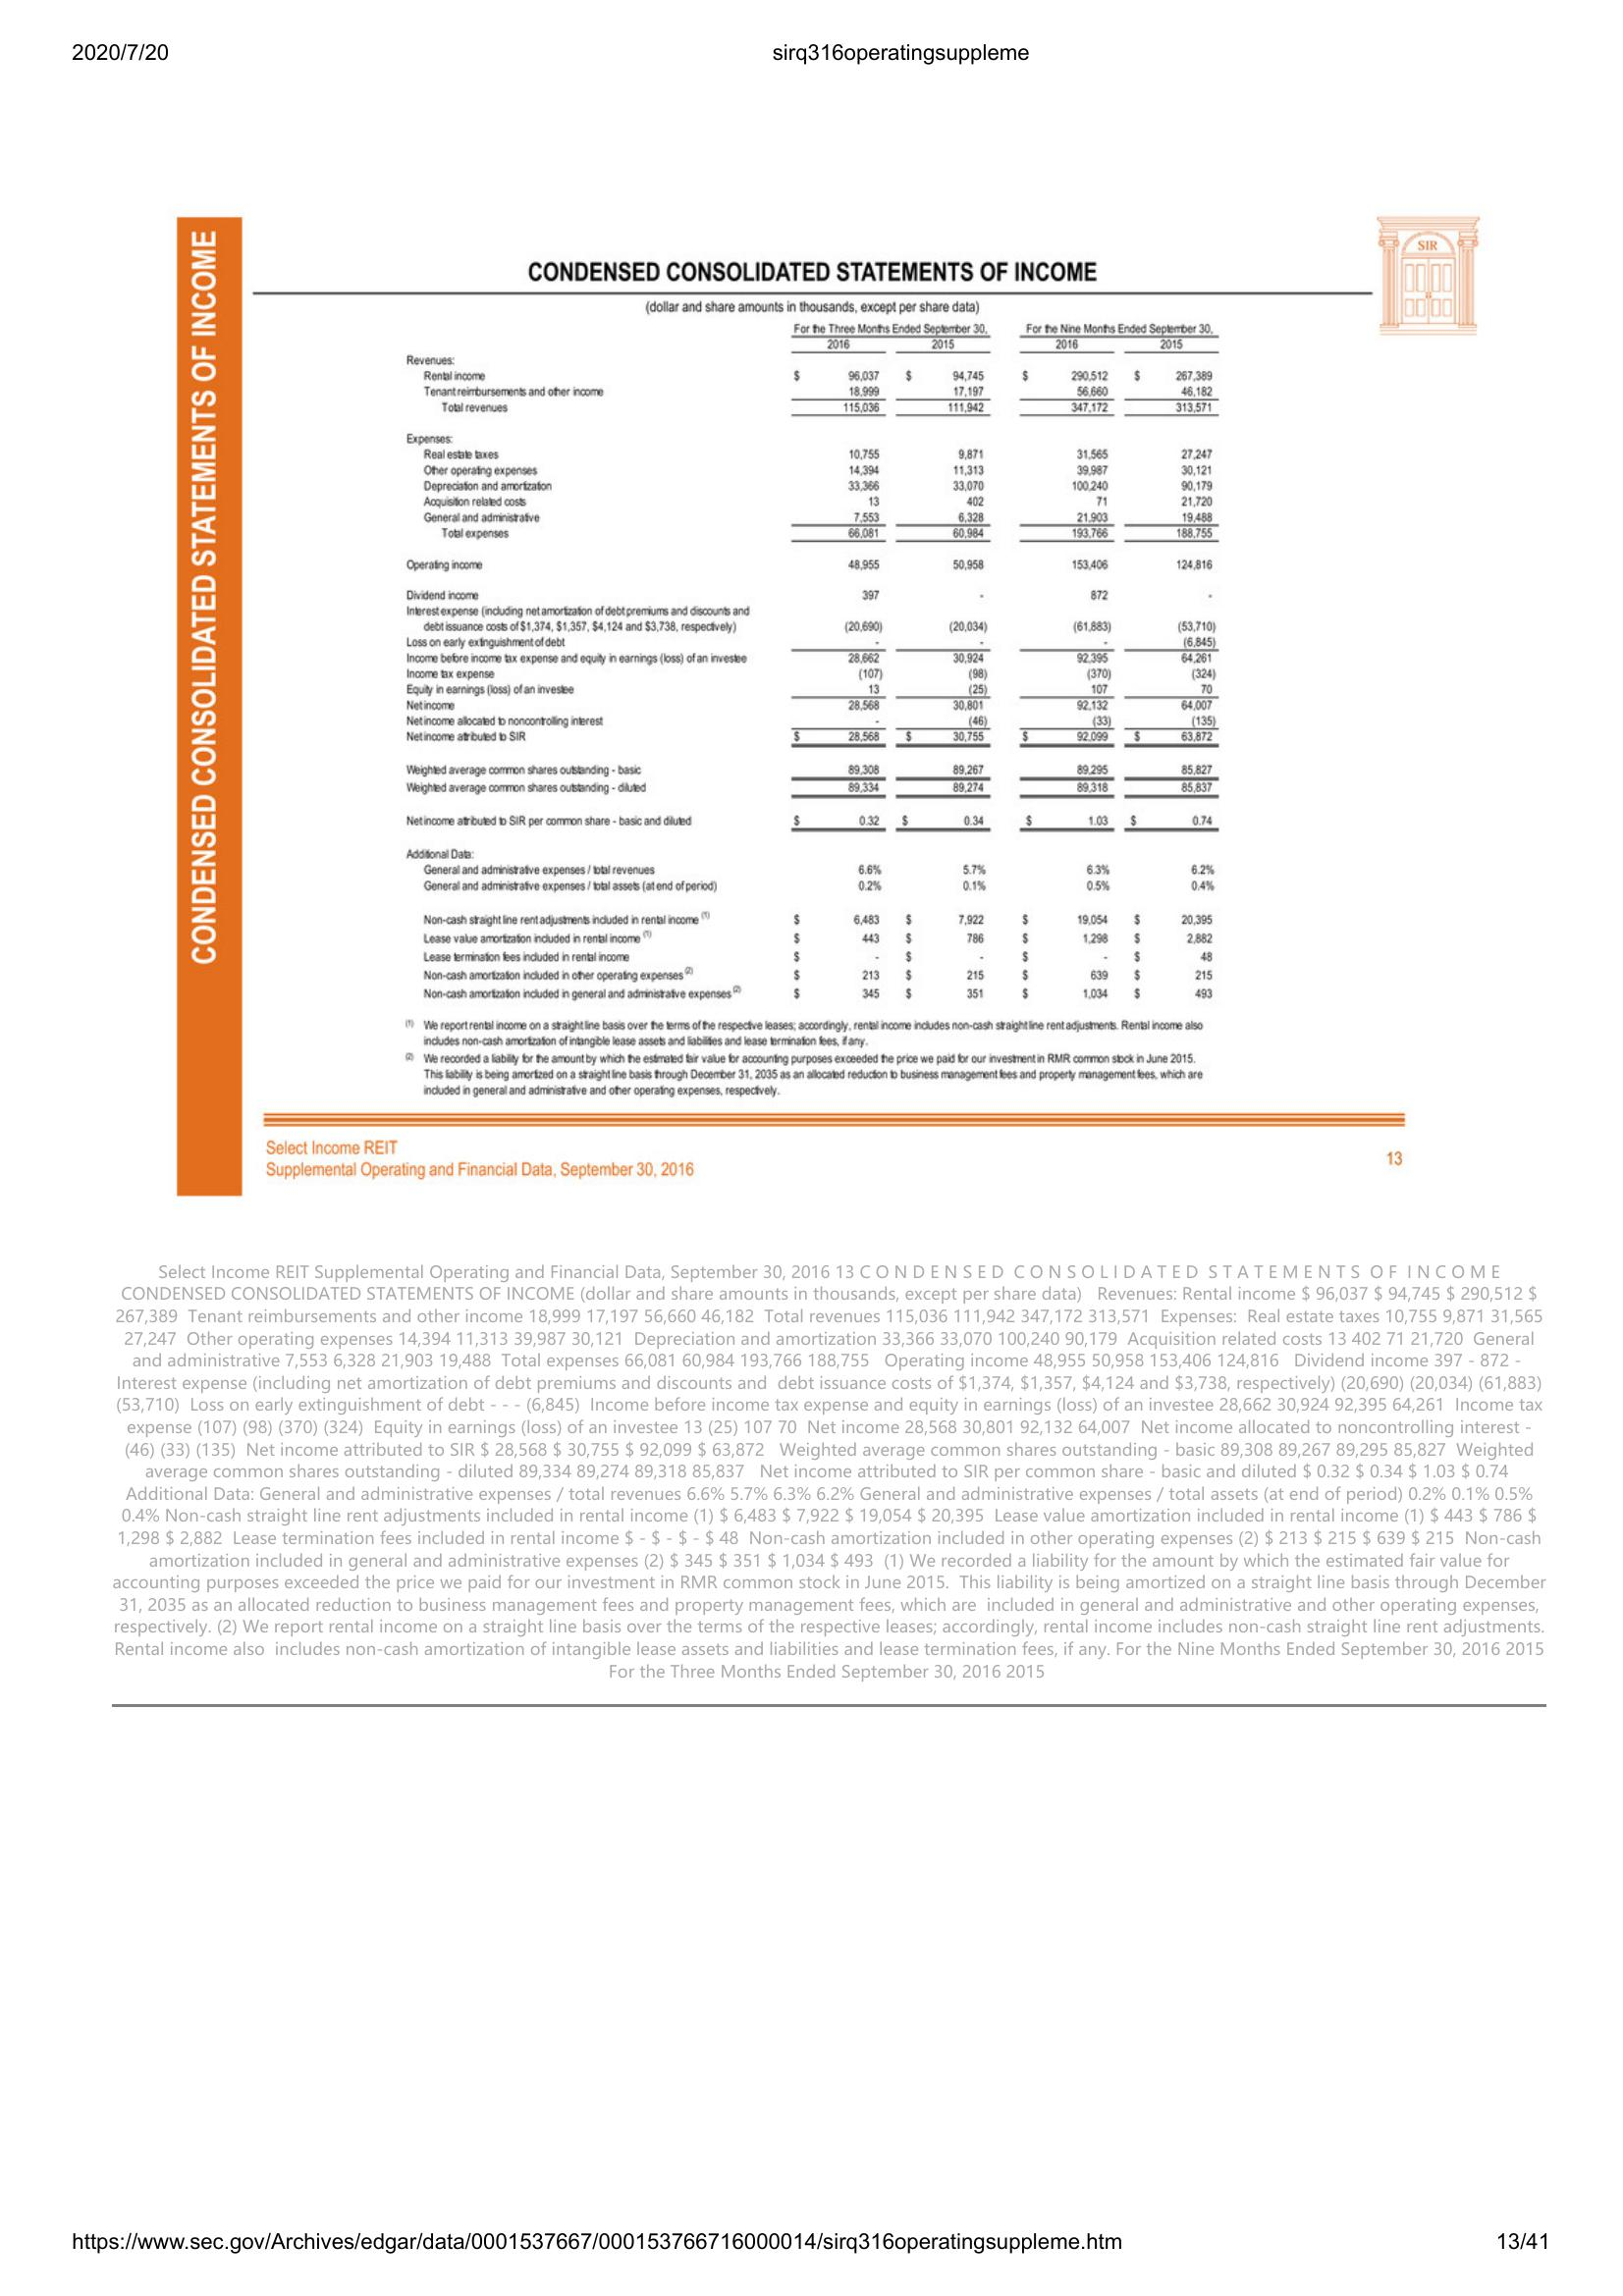table: (385, 312, 1230, 1090)
